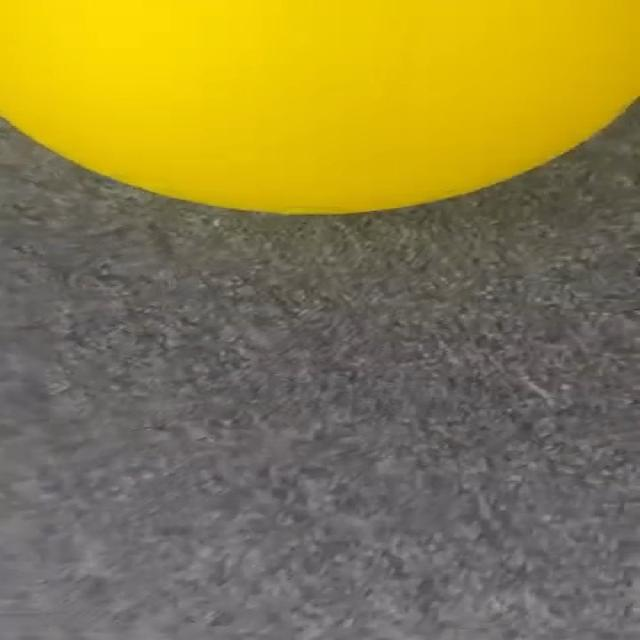Fuels: (2, 0, 638, 213)
